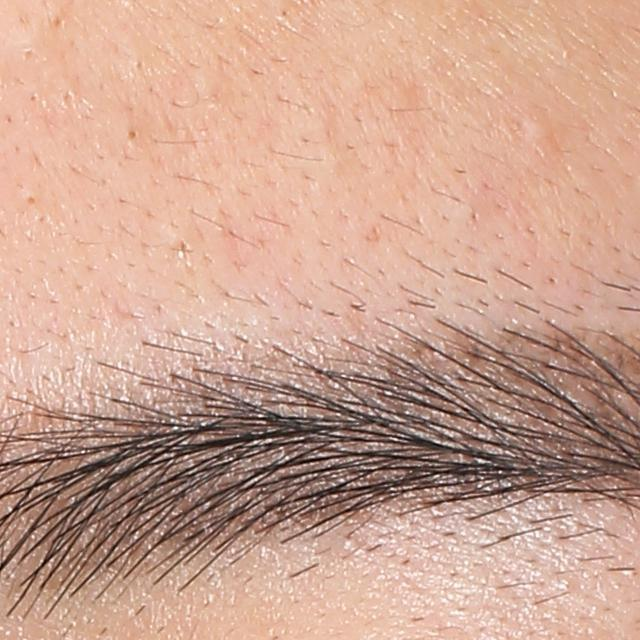comedo: (514, 102, 557, 163), (14, 184, 49, 217), (48, 12, 71, 33)
